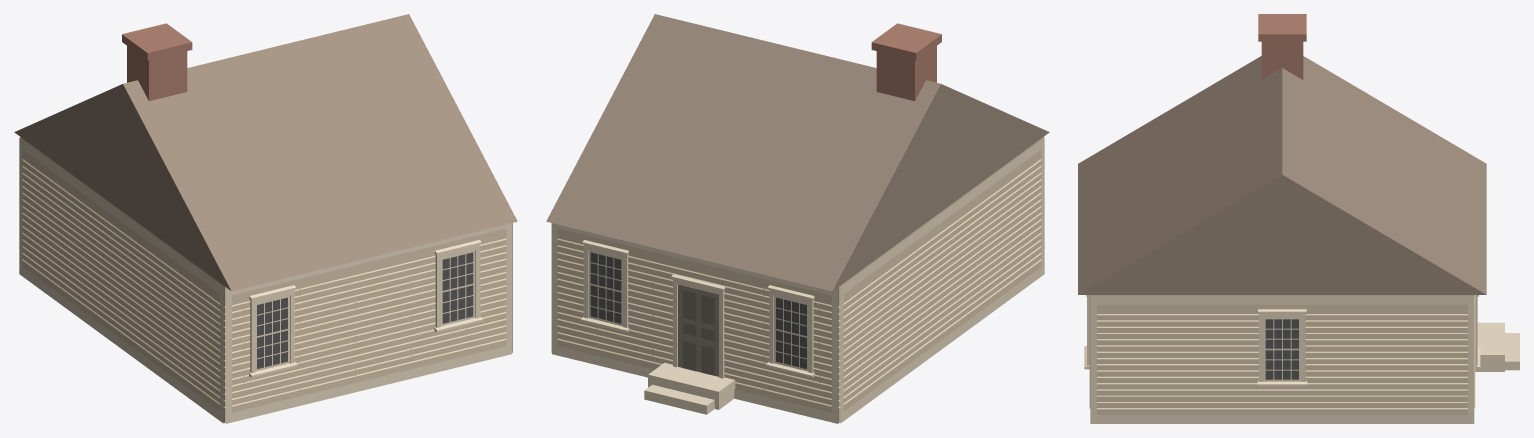
The model's file is recon_1835_north_d4_075__inferred_1835.glb.
The picture shows the model from 3 angles, left to right: view 1: azimuth 30°, elevation 25°; view 2: azimuth 150°, elevation 25°; view 3: azimuth 270°, elevation 25°; orthographic projection. The views are drawn at different scales.
Parts seen in each view (by area): view 1: recon_1835_north_d4_075__inferred_1835; view 2: recon_1835_north_d4_075__inferred_1835; view 3: recon_1835_north_d4_075__inferred_1835.
Boxes of the visible parts, left/top/right/bottom form: recon_1835_north_d4_075__inferred_1835: left=14, top=14, right=517, bottom=423; recon_1835_north_d4_075__inferred_1835: left=546, top=14, right=1049, bottom=423; recon_1835_north_d4_075__inferred_1835: left=1078, top=14, right=1519, bottom=423.
Size of the model in its own units: 6.43 by 6.32 by 8.93.
